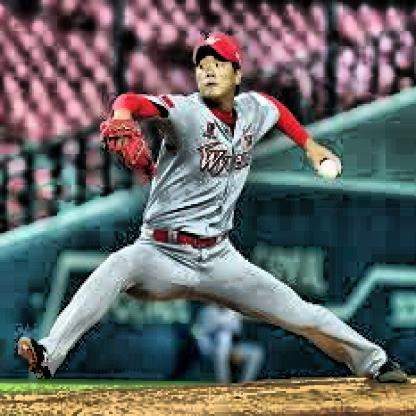baseball: (318, 156, 339, 181)
